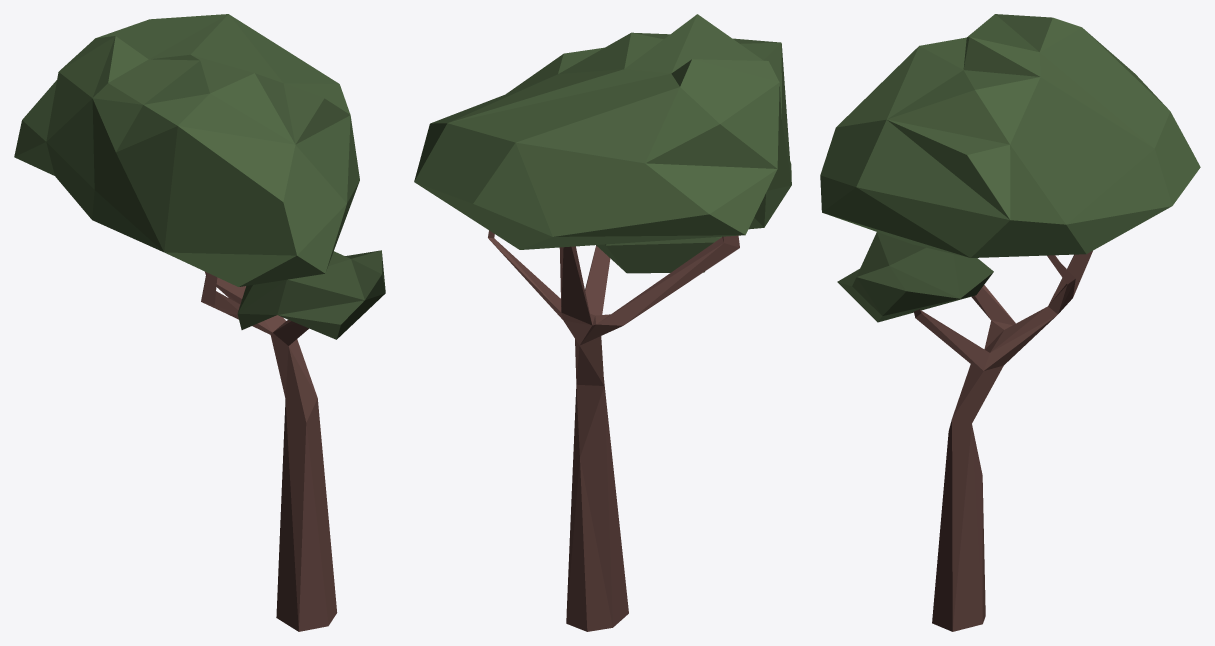
The model's file is tree-common-4.gltf.
3 views of the same model, side by side, from view 1: azimuth 30°, elevation 25°; view 2: azimuth 150°, elevation 25°; view 3: azimuth 270°, elevation 25° (orthographic). The views are drawn at different scales.
Parts seen in each view (by area): view 1: CommonTree_4_Cube.002; view 2: CommonTree_4_Cube.002; view 3: CommonTree_4_Cube.002.
Boxes of the visible parts, x1,y1,x2,y2 form: CommonTree_4_Cube.002: (14,14,385,631); CommonTree_4_Cube.002: (414,14,791,631); CommonTree_4_Cube.002: (820,14,1200,631).
Bounding box in the file's own units: 0.0154 × 0.0278 × 0.0178.
